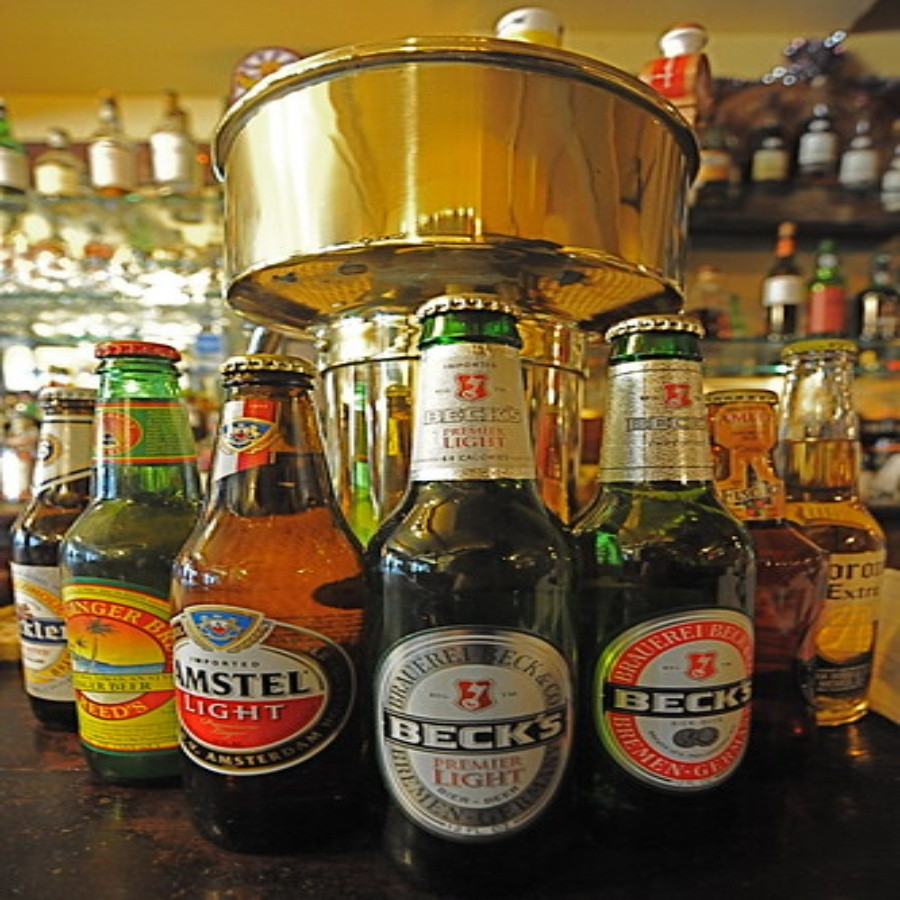beer: (326, 303, 583, 878), (186, 370, 360, 874), (589, 315, 756, 804)
